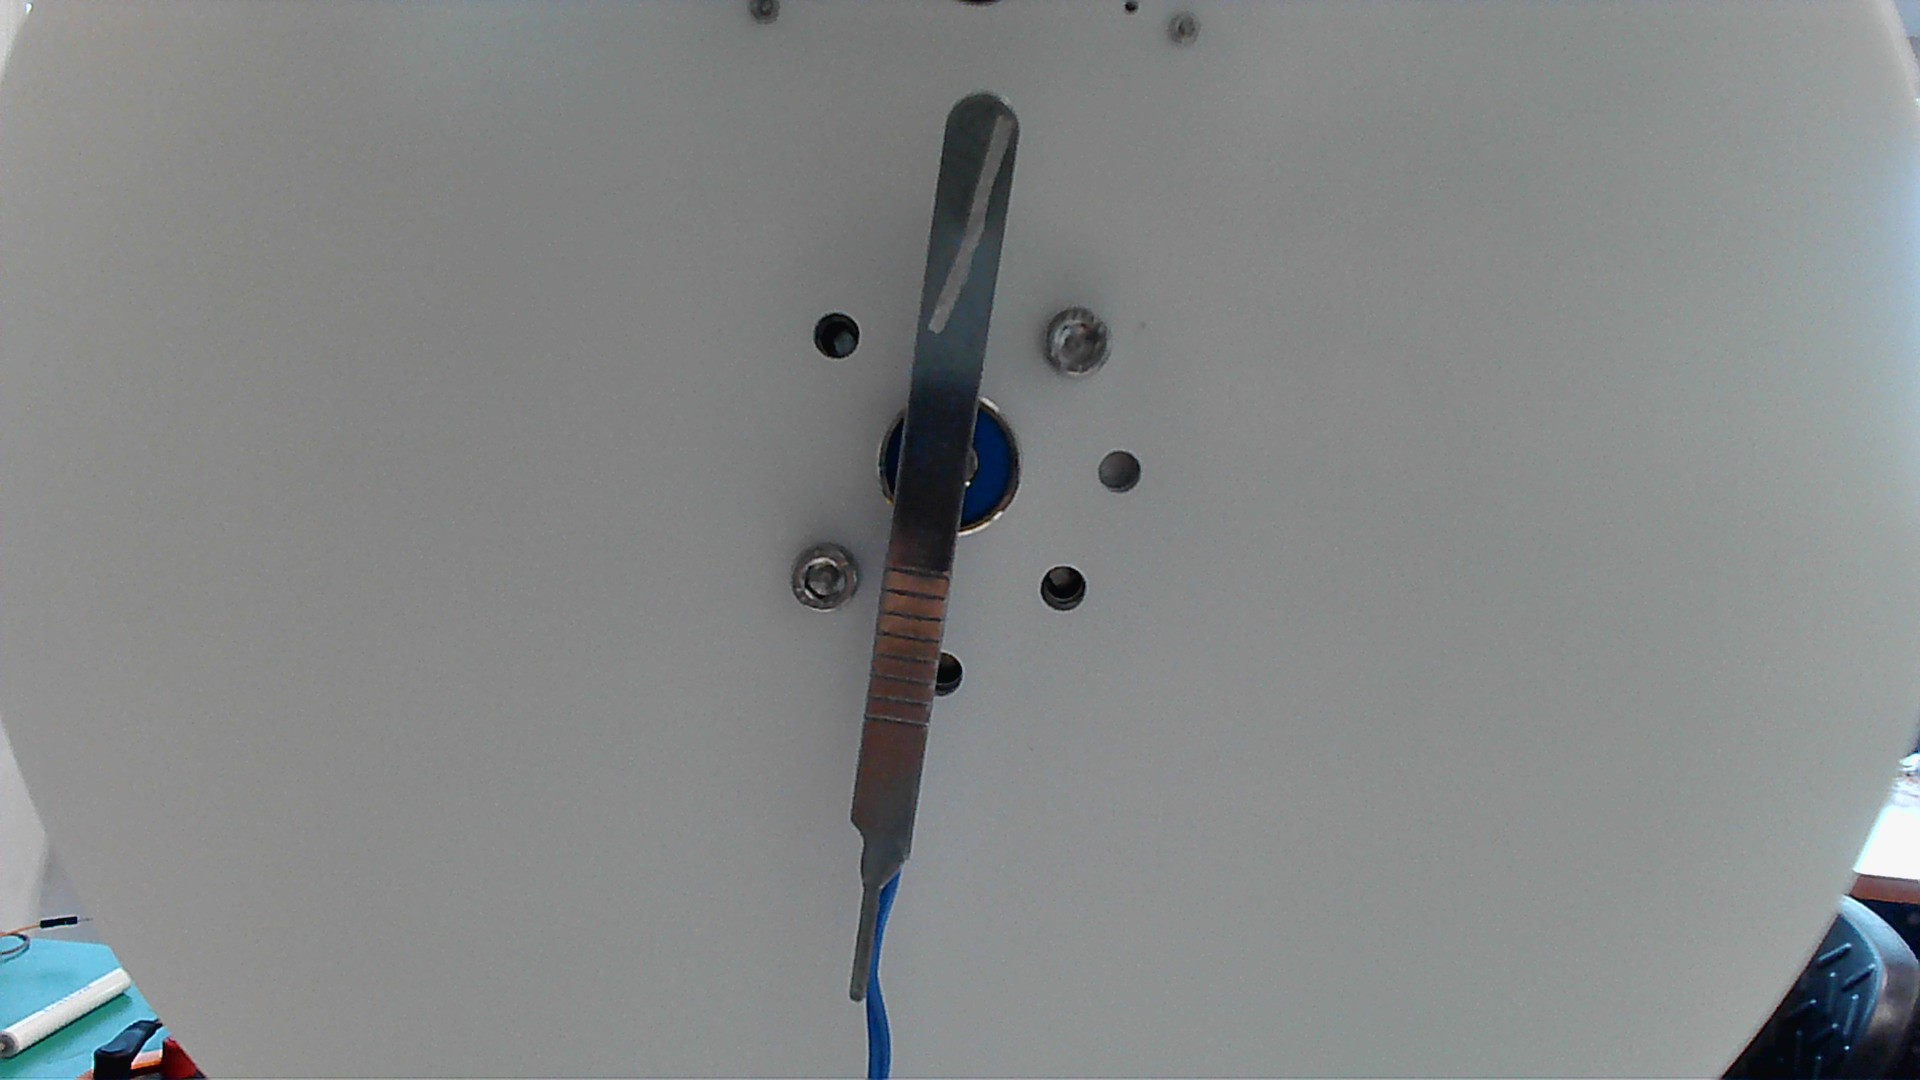Scratches: (922, 107, 1018, 347)
